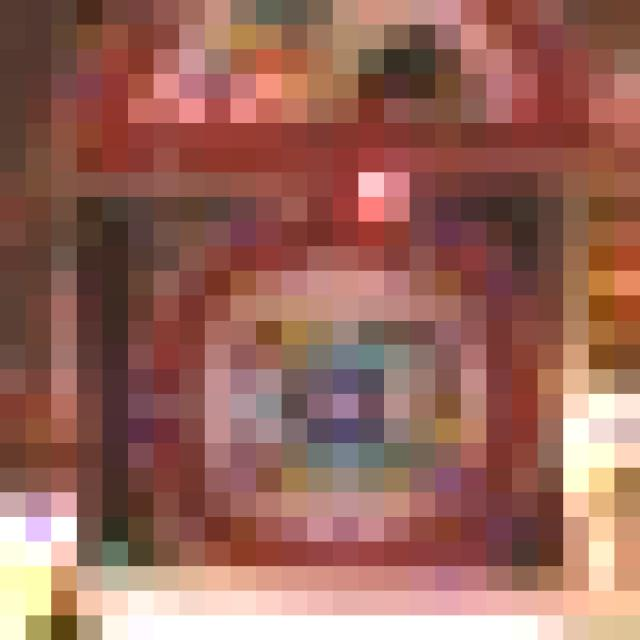Speed Limit -30-: (115, 136, 499, 504)
